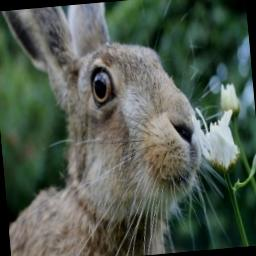rabbit: (0, 2, 200, 256)
